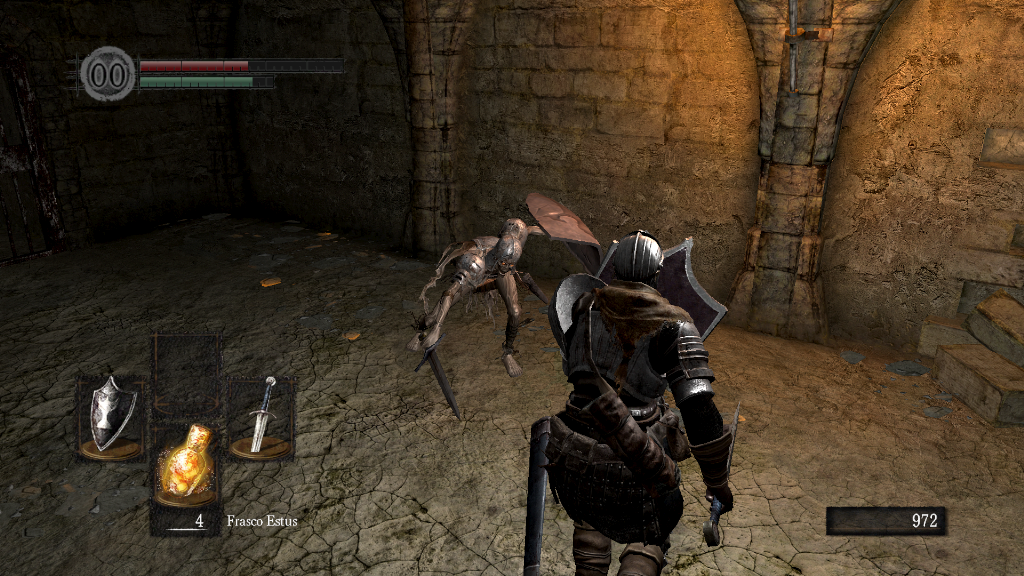health: (138, 58, 343, 71)
humanity: (80, 45, 136, 102)
player: (520, 230, 744, 576)
souls: (825, 506, 945, 536)
stamina: (138, 74, 274, 88)
undeadSoldier: (411, 190, 551, 378)
